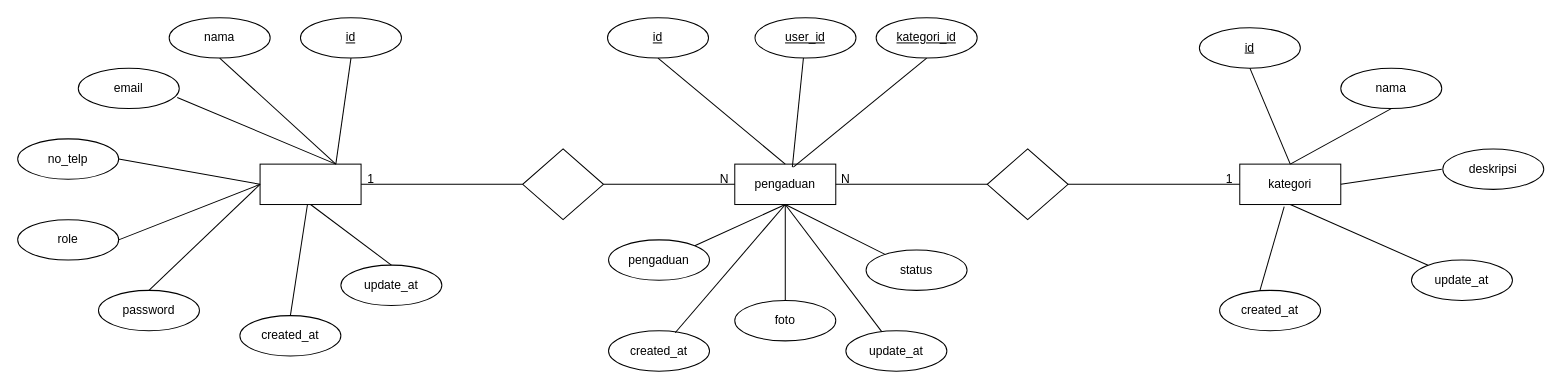
Image size: 1561x389. Some labels were removed from this diagram. Here are the shapes that lost their labels. From the top down, the centre of each, then its label:
At pixel 310 184: "user".
At pixel 562 184: "membuat".
At pixel 1027 184: "memilih kategori".
